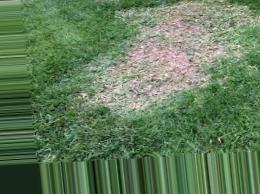patch: (104, 53, 198, 91), (150, 13, 220, 47)
